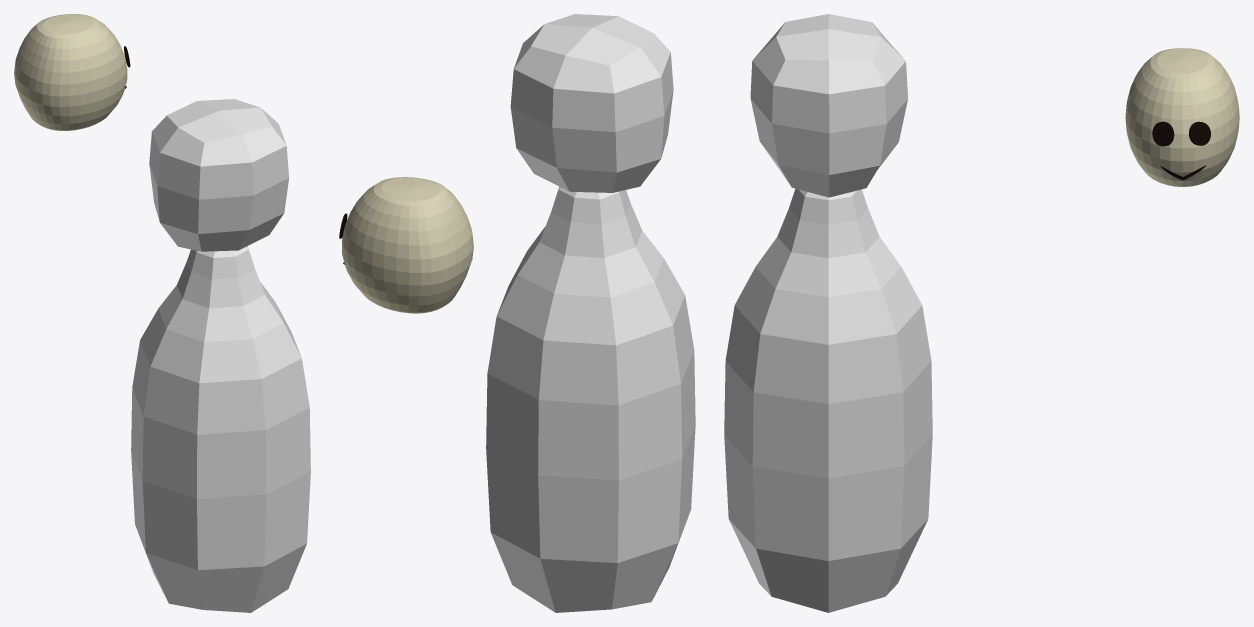
File: Head_Ver_2.fbx
3 renders of one model, left to right at view 1: azimuth 30°, elevation 25°; view 2: azimuth 150°, elevation 25°; view 3: azimuth 270°, elevation 25°, orthographic. The views are drawn at different scales.
Visible parts, largest first — view 1: body backup, head backup, Fläche; view 2: body backup, head backup, Fläche; view 3: body backup, head backup, Fläche.
Part boxes in pixels (x1,y1,x2,y2): body backup: [131, 246, 310, 612]; head backup: [149, 99, 288, 251]; Fläche: [14, 14, 130, 130]; body backup: [486, 186, 695, 612]; head backup: [510, 14, 673, 192]; Fläche: [339, 177, 473, 313]; body backup: [724, 188, 932, 612]; head backup: [750, 14, 907, 197]; Fläche: [1125, 48, 1239, 186].
Size of the model in its own units: 71.52 by 218 by 177.
